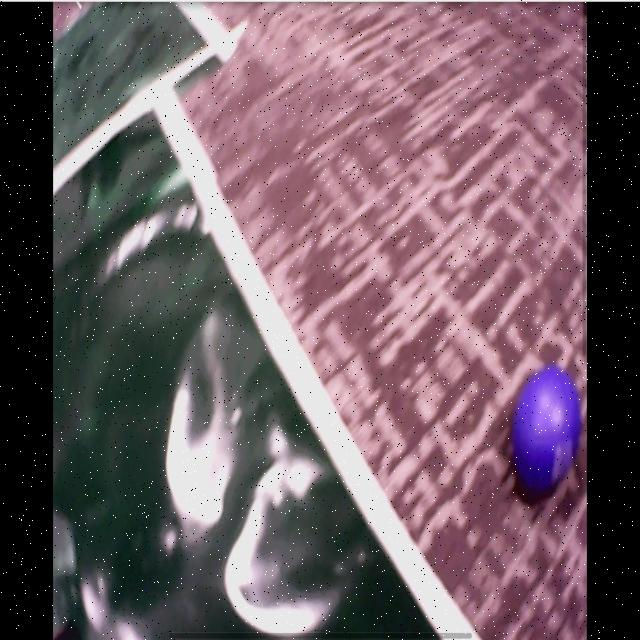ball: (514, 370, 580, 486)
